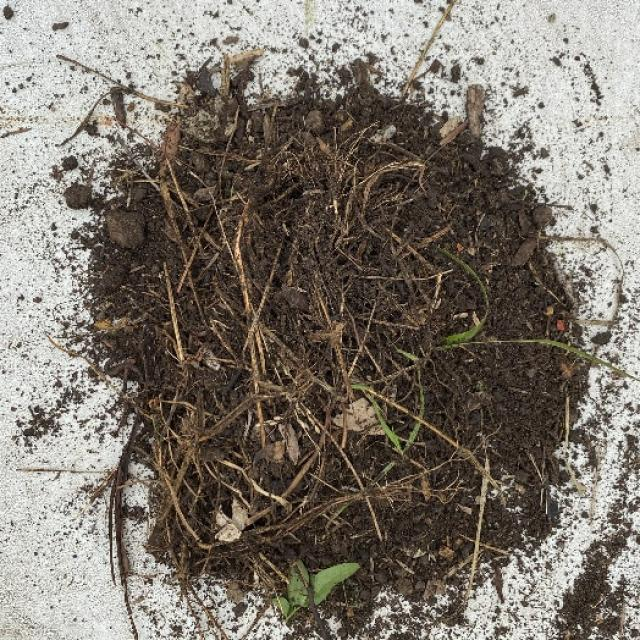organik: (148, 96, 518, 561)
